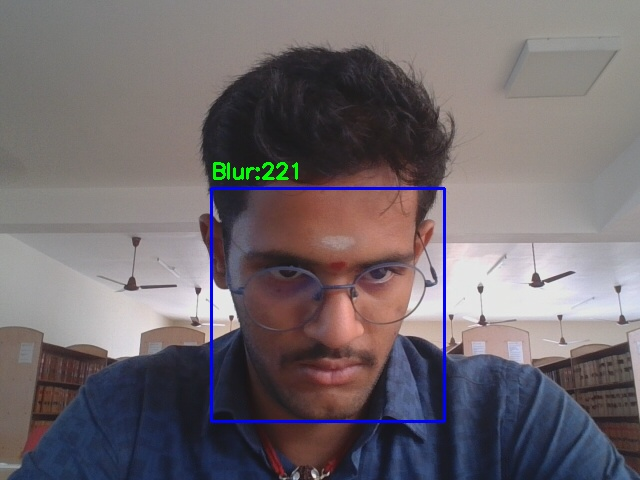real: (211, 188, 444, 421)
